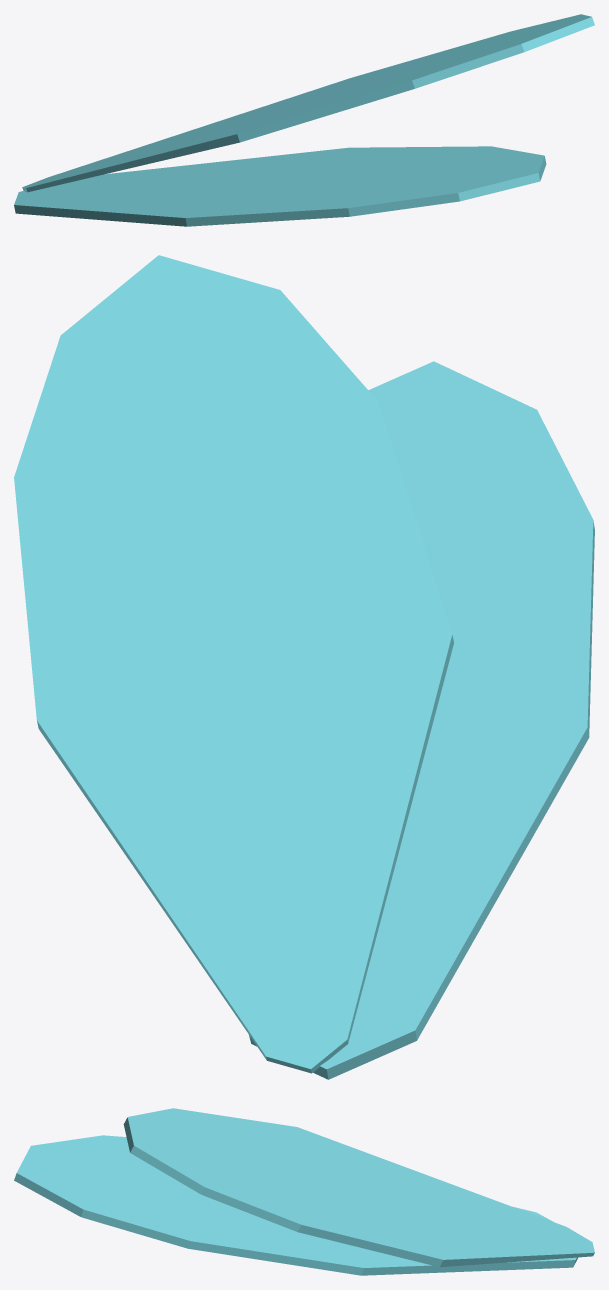
File: flyWing.fbx
3 views of the same model, one above another, from view 1: azimuth 30°, elevation 25°; view 2: azimuth 150°, elevation 25°; view 3: azimuth 270°, elevation 25° (orthographic). The views are drawn at different scales.
Parts seen in each view (by area): view 1: Circle.004_Circle.002; view 2: Circle.004_Circle.002; view 3: Circle.004_Circle.002.
Boxes of the visible parts, x1=… form: Circle.004_Circle.002: x1=14, y1=14, x2=594, y2=226; Circle.004_Circle.002: x1=14, y1=255, x2=594, y2=1079; Circle.004_Circle.002: x1=14, y1=1108, x2=594, y2=1275.
Bounding box in the file's own units: 315 × 205 × 412.
